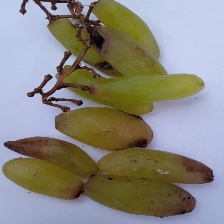grapes: (11, 19, 181, 185)
